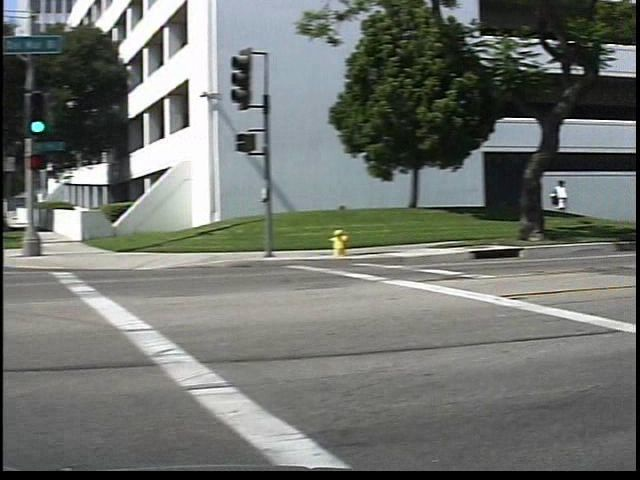person: (565, 173, 586, 234)
